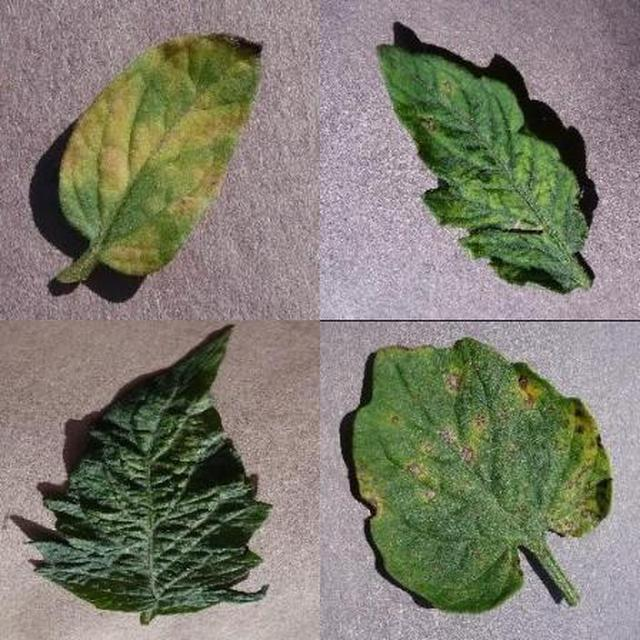Leaf Mold: (210, 220, 640, 640)
